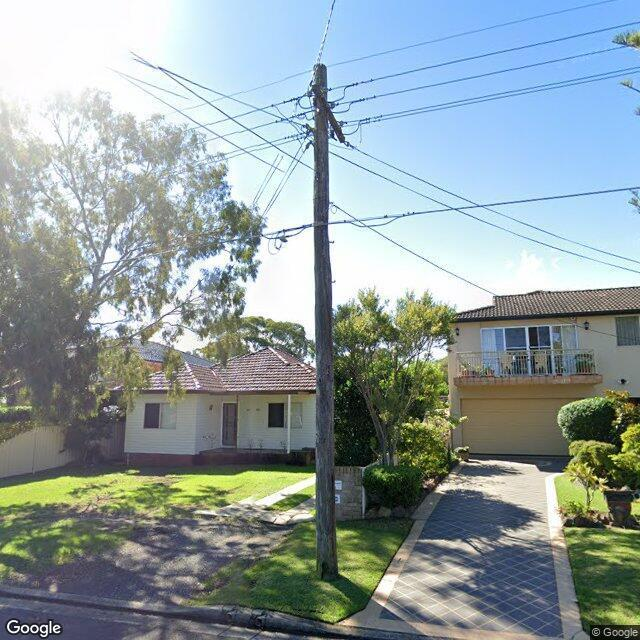crossarm: (310, 81, 346, 145)
timber-pole: (312, 63, 338, 580)
